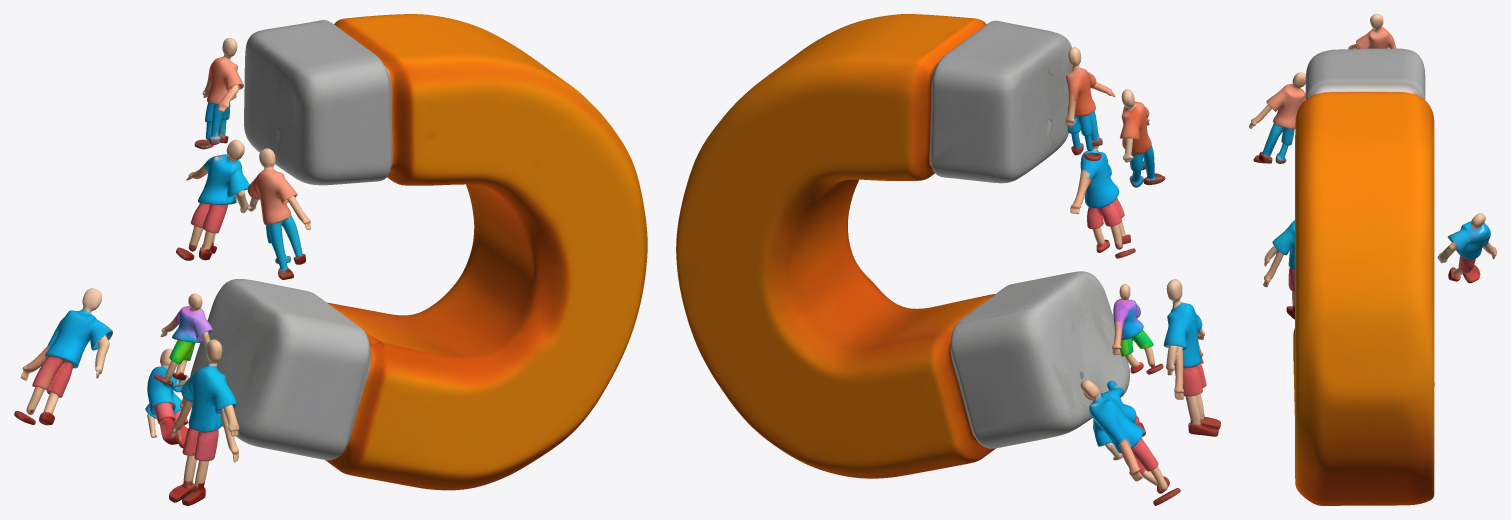
Rendered from model-leads.glb.
3 renders of one model, left to right at view 1: azimuth 30°, elevation 25°; view 2: azimuth 150°, elevation 25°; view 3: azimuth 270°, elevation 25°, orthographic. The views are drawn at different scales.
Size of the model in its own units: 1.9 by 1.58 by 0.9006.
Materials: 1 (1 with a texture image).
